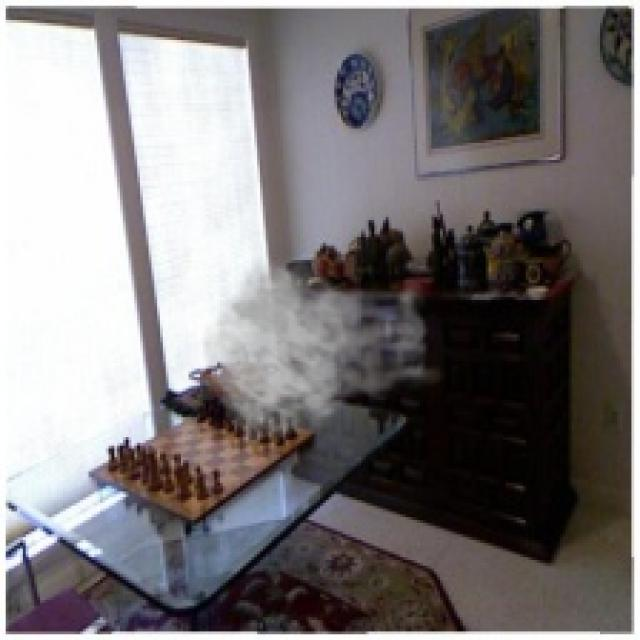smoke: (200, 245, 446, 446)
